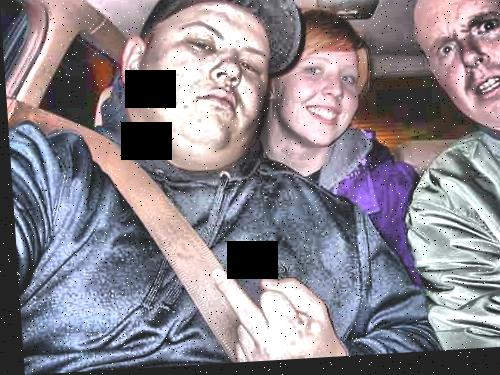seatbelt: (29, 74, 240, 318)
